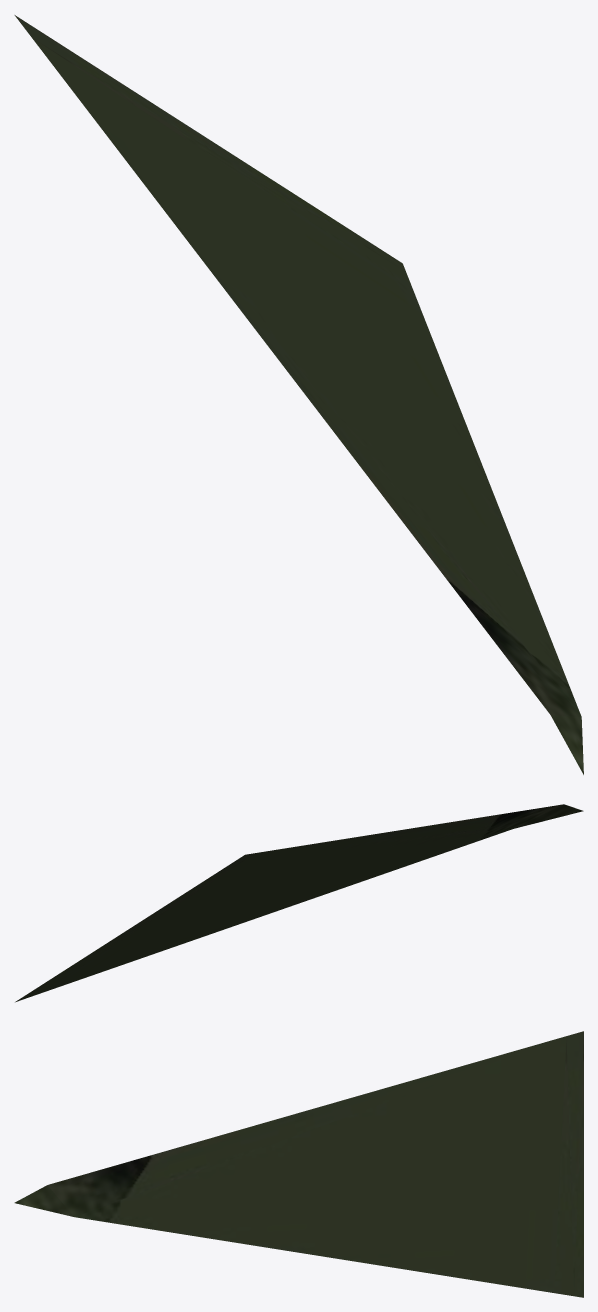
3 renders of one model, top to bottom at view 1: azimuth 30°, elevation 25°; view 2: azimuth 150°, elevation 25°; view 3: azimuth 270°, elevation 25°, orthographic. The views are drawn at different scales.
Size of the model in its own units: 1.05 by 0.8899 by 2.67.
1 material, 1 textured.
